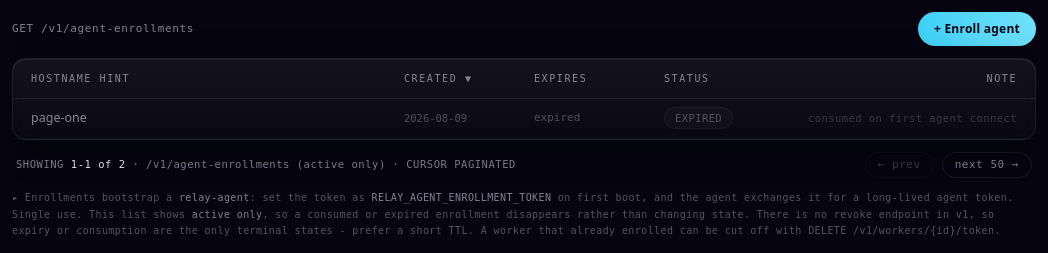
it: the pager walks the cursor stack and the footer range tracks the offset
expect the text "page-one" is shown: met, box [31,109,87,126]
expect the text "1-1 of 2" is shown: met, box [71,158,126,170]
Click the button "next 50 →": (987, 165) [942,152,1032,178]
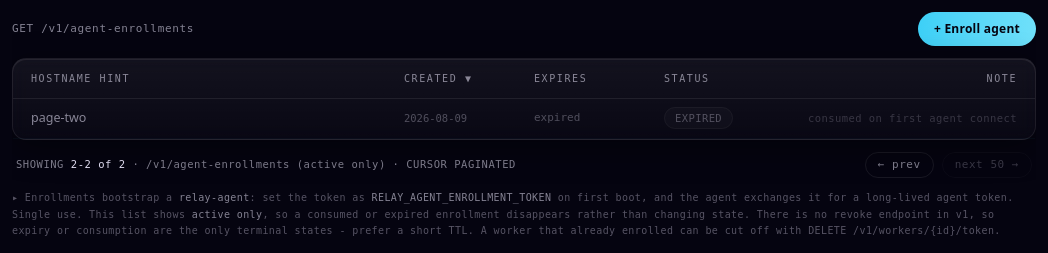
expect the text "page-two" is shown: met, box [31,109,86,126]
expect the text "2-2 of 2" is shown: met, box [71,158,126,170]
expect the button "next 50 →" is disabled: met, box [942,152,1032,178]
Click the button "← prev": (899, 165) [865,152,934,178]
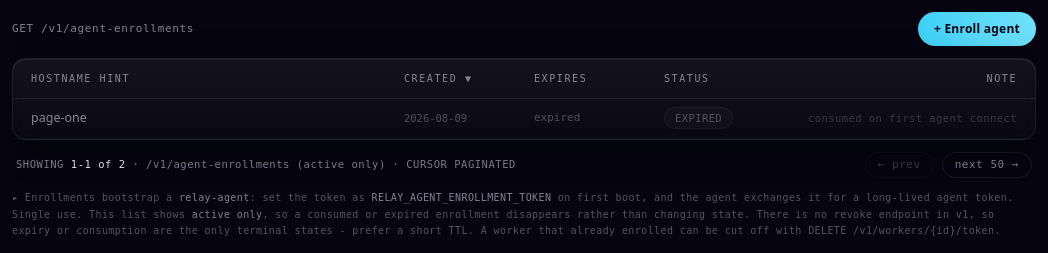
expect the text "page-one" is shown: met, box [31,109,87,126]
expect the text "1-1 of 2" is shown: met, box [71,158,126,170]
